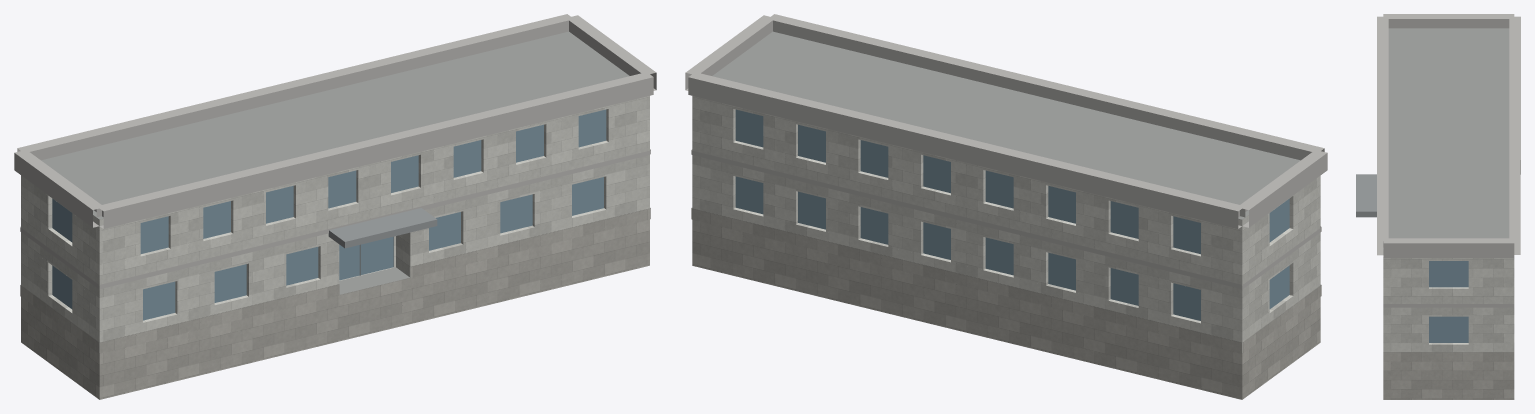
The picture shows the model from 3 angles, left to right: view 1: azimuth 30°, elevation 25°; view 2: azimuth 150°, elevation 25°; view 3: azimuth 270°, elevation 25°; orthographic projection. The views are drawn at different scales.
Parts seen in each view (by area): view 1: westDormAnnexW4_5__wall, westDormAnnexW4_5__base, westDormAnnexW4_5__roof, westDormAnnexW4_5__trim, westDormAnnexW4_5__glass, westDormAnnexW4_5__canopy; view 2: westDormAnnexW4_5__wall, westDormAnnexW4_5__base, westDormAnnexW4_5__roof, westDormAnnexW4_5__trim, westDormAnnexW4_5__glass; view 3: westDormAnnexW4_5__roof, westDormAnnexW4_5__trim, westDormAnnexW4_5__wall, westDormAnnexW4_5__base, westDormAnnexW4_5__glass, westDormAnnexW4_5__canopy.
Boxes of the visible parts, left/top/right/bottom form: westDormAnnexW4_5__wall: left=21, top=96, right=649, bottom=353; westDormAnnexW4_5__base: left=20, top=208, right=650, bottom=399; westDormAnnexW4_5__roof: left=41, top=31, right=629, bottom=294; westDormAnnexW4_5__trim: left=14, top=14, right=656, bottom=288; westDormAnnexW4_5__glass: left=52, top=109, right=606, bottom=320; westDormAnnexW4_5__canopy: left=328, top=208, right=437, bottom=248; westDormAnnexW4_5__wall: left=692, top=96, right=1320, bottom=353; westDormAnnexW4_5__base: left=691, top=208, right=1321, bottom=399; westDormAnnexW4_5__roof: left=712, top=31, right=1300, bottom=219; westDormAnnexW4_5__trim: left=685, top=14, right=1327, bottom=288; westDormAnnexW4_5__glass: left=735, top=109, right=1289, bottom=320; westDormAnnexW4_5__roof: left=1383, top=28, right=1509, bottom=249; westDormAnnexW4_5__trim: left=1377, top=14, right=1520, bottom=307; westDormAnnexW4_5__wall: left=1383, top=250, right=1514, bottom=352; westDormAnnexW4_5__base: left=1383, top=352, right=1514, bottom=399; westDormAnnexW4_5__glass: left=1429, top=261, right=1468, bottom=342; westDormAnnexW4_5__canopy: left=1356, top=174, right=1376, bottom=217.
Bounding box in the file's own units: 31.74 × 10.3 × 9.64.
8 materials, 2 textured.
